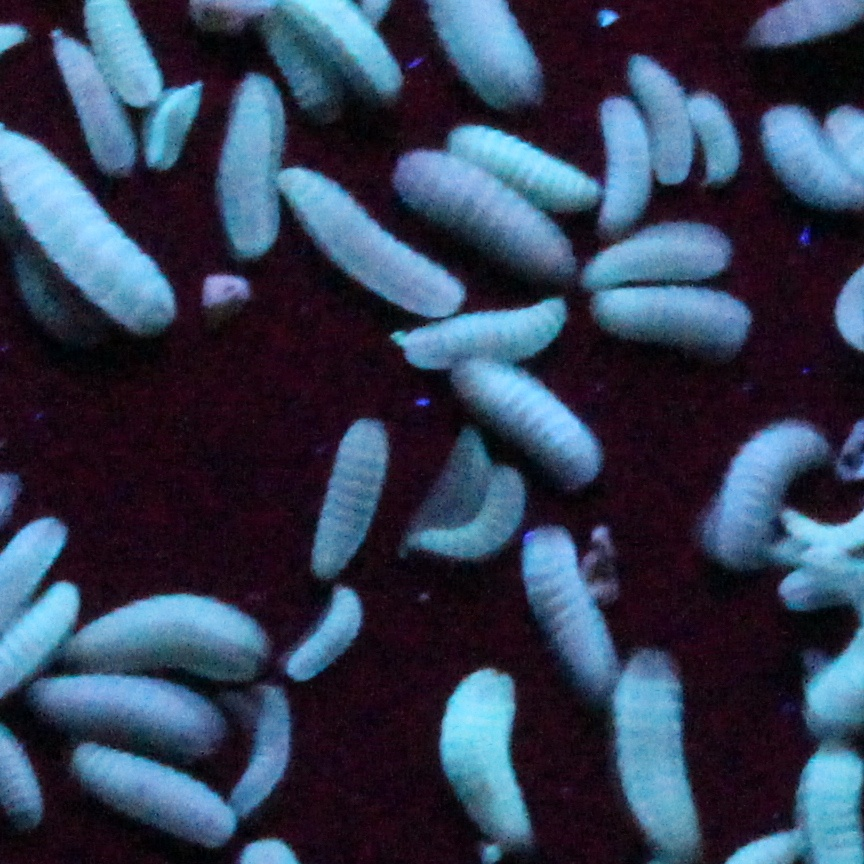larve: (274, 161, 460, 315), (387, 144, 574, 278), (616, 651, 704, 853), (708, 419, 829, 562), (95, 595, 273, 685), (36, 678, 228, 758), (450, 368, 594, 471), (438, 668, 526, 834), (521, 526, 612, 682), (314, 415, 397, 577), (449, 117, 592, 209), (89, 760, 232, 848), (398, 292, 573, 361), (52, 31, 130, 176), (415, 470, 528, 562), (224, 76, 277, 262), (628, 51, 690, 188), (591, 222, 728, 284), (287, 589, 365, 685), (597, 96, 650, 233), (590, 298, 752, 340), (146, 82, 214, 172), (240, 701, 291, 809), (690, 92, 737, 182)
